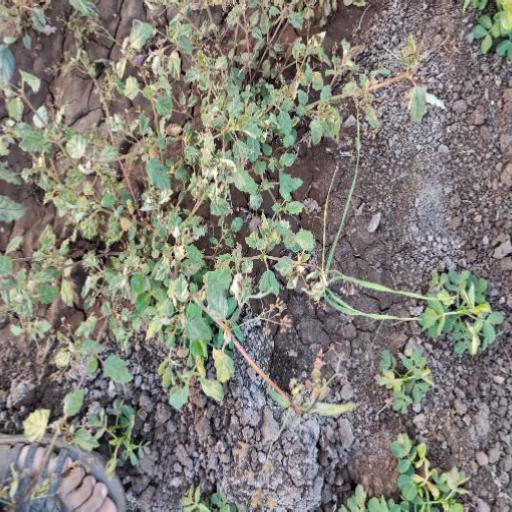weed: (14, 19, 357, 408), (390, 247, 512, 373)
